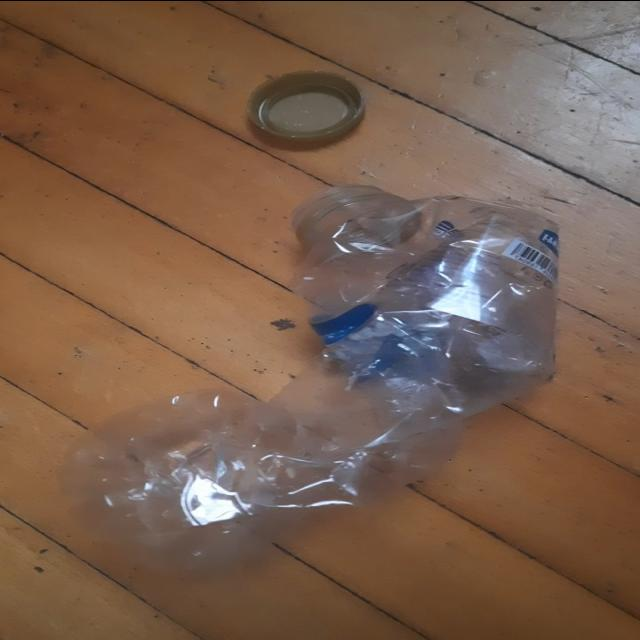Plastic: (58, 187, 560, 552), (248, 70, 367, 150)
